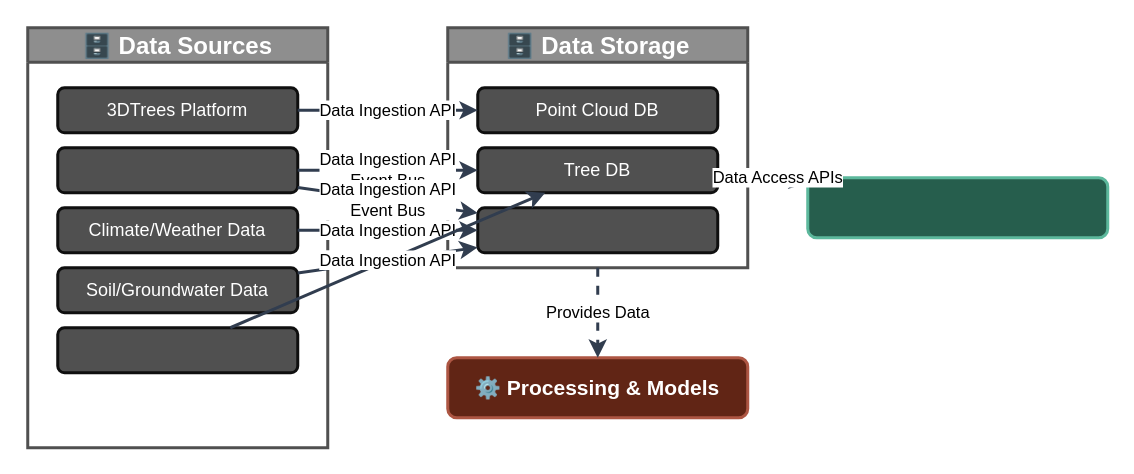
This 1134x474 diagram has some shape labels left out. Each missing label, with the centre of its shape:
EcoSense Sensors: the point at 177,170
Environment DB: the point at 597,230
Forest Inventory: the point at 177,350
🖥️ API Gateway & Clients: the point at 957,207
